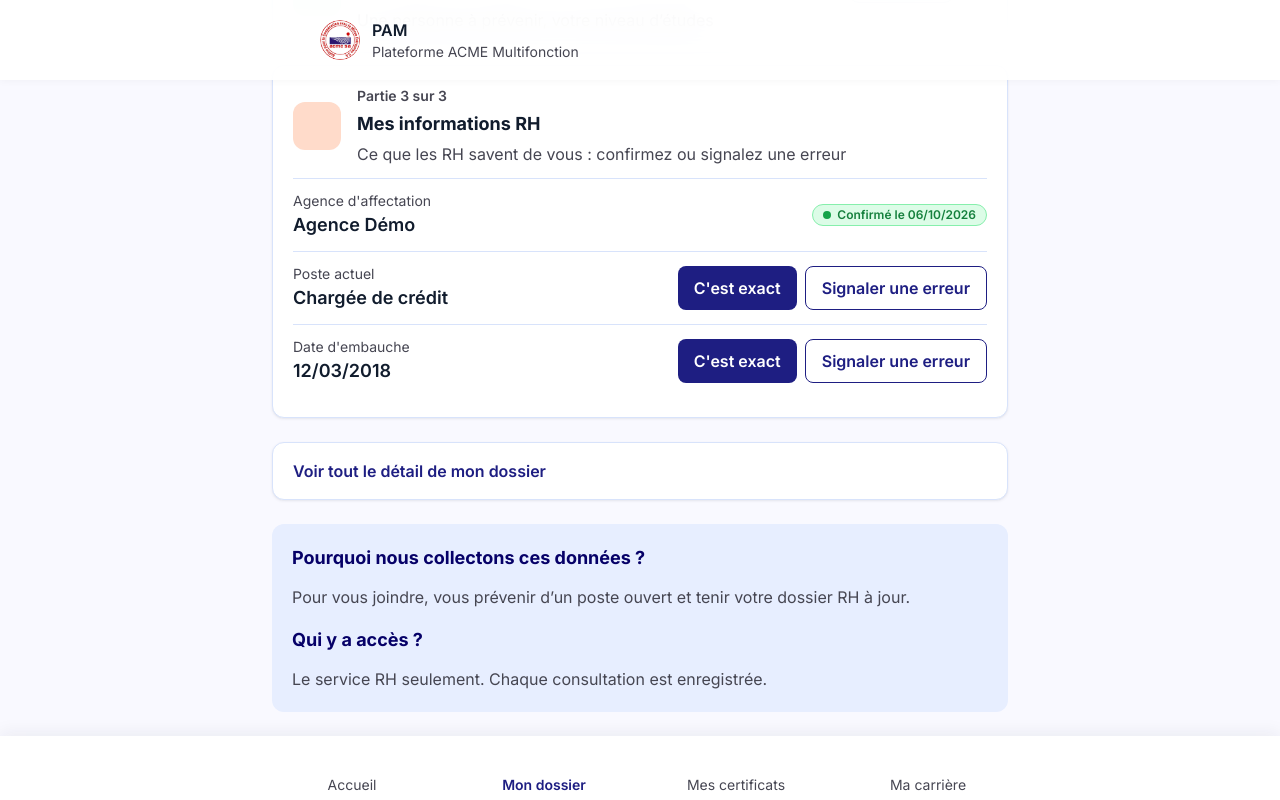
Test case: US-129 CA-06 — le détail complet, replié en bas › replié sous « Voir tout le détail de mon dossier », il s’ouvre d’un clic
The width and height of the screenshot is (1280, 800).
(page scrolled)
What coordinates should you click on to do the following:
click the heading "Voir tout le détail de mon dossier"
I would click on:
 (419, 471)
Its box is [293, 457, 987, 485].
(page scrolled)
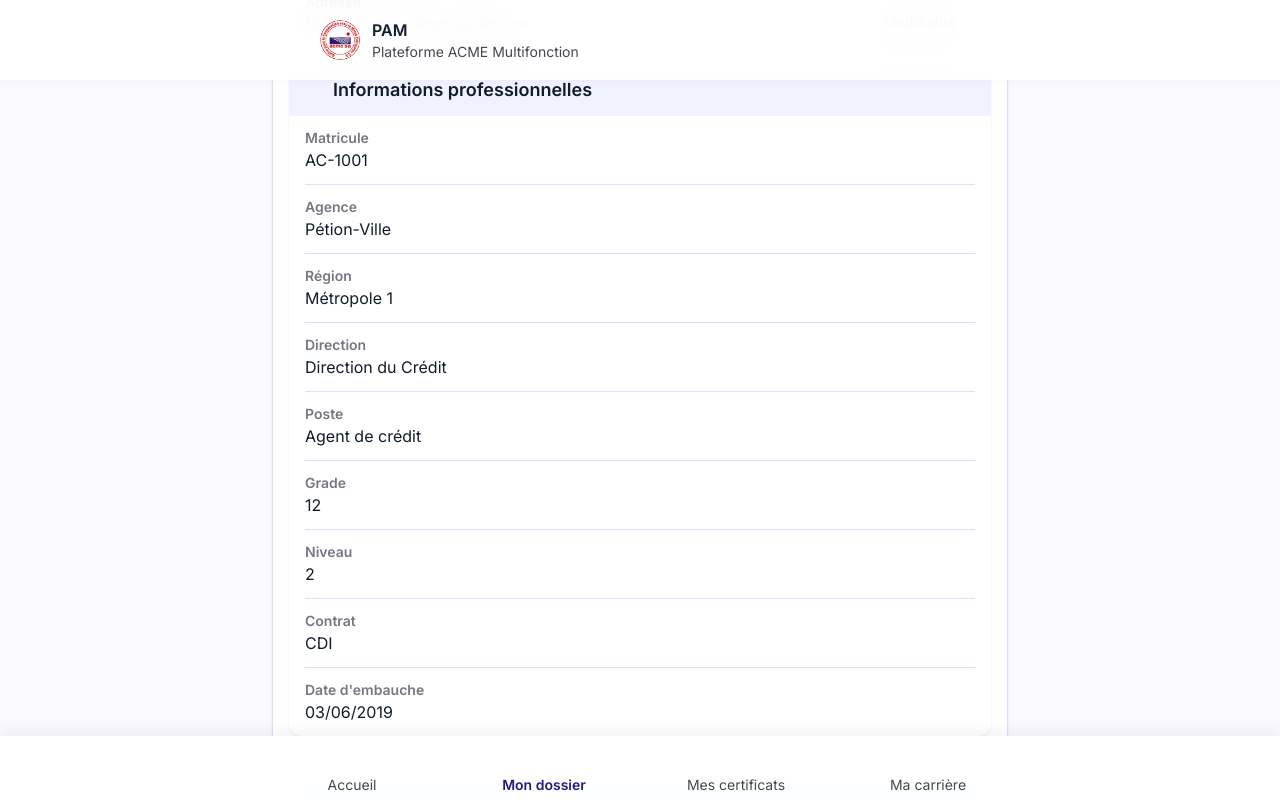
expect the element "Informations professionnelles" is shown: met, box [289, 64, 991, 736]
